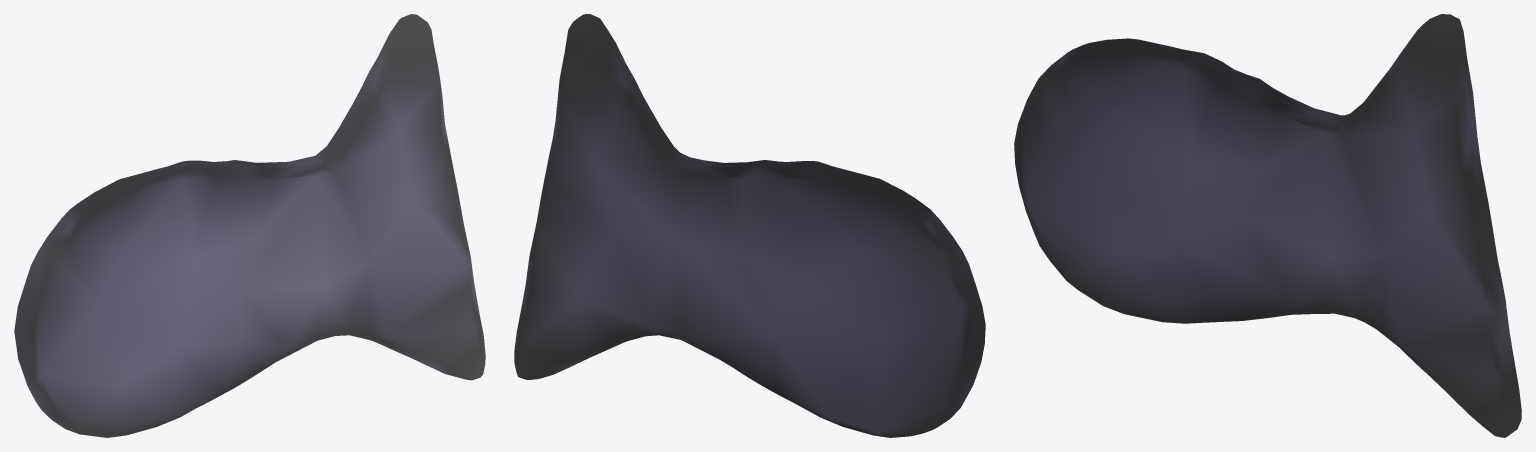
The picture shows the model from 3 angles, left to right: view 1: azimuth 30°, elevation 25°; view 2: azimuth 150°, elevation 25°; view 3: azimuth 330°, elevation 25°; orthographic projection. The views are drawn at different scales.
Size of the model in its own units: 393 by 299 by 19.96.
